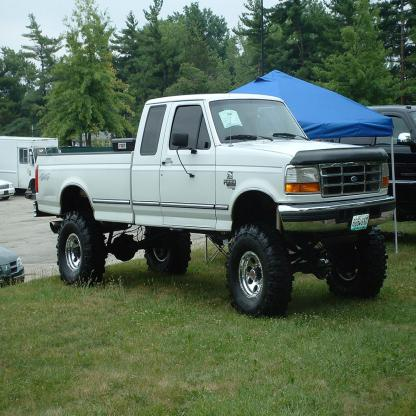Truck: (33, 59, 396, 318), (0, 136, 62, 193)
